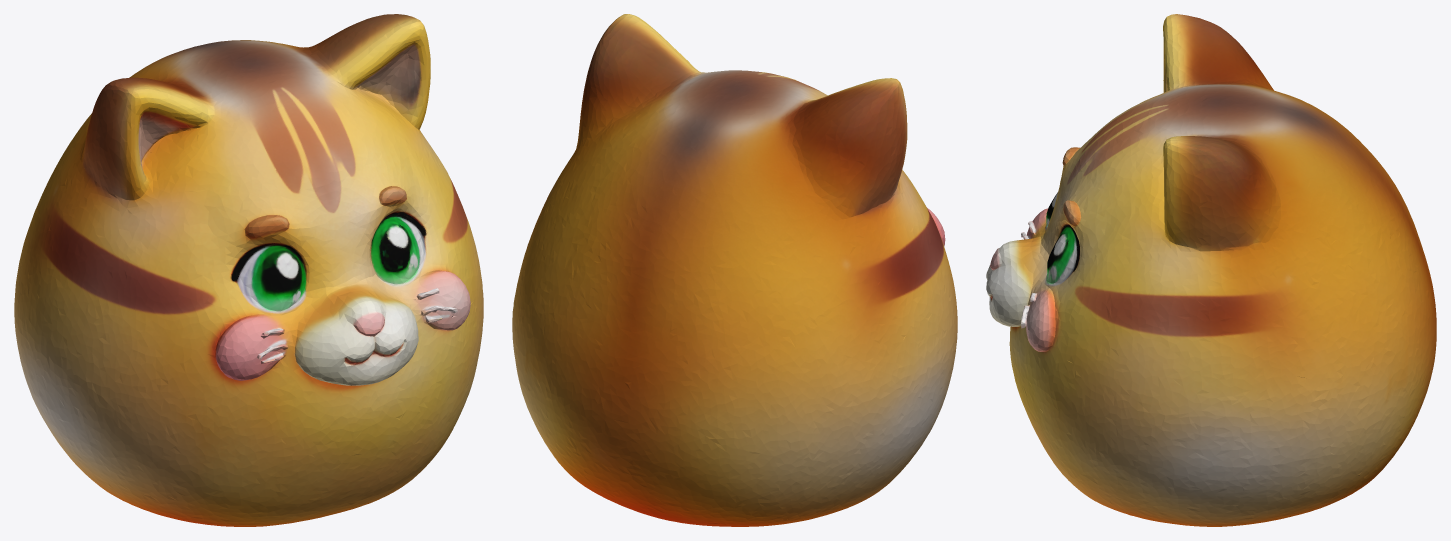
File: char_cheese.glb
The picture shows the model from 3 angles, left to right: view 1: azimuth 30°, elevation 25°; view 2: azimuth 150°, elevation 25°; view 3: azimuth 270°, elevation 25°; orthographic projection. The views are drawn at different scales.
Visible parts, largest first — view 1: world; view 2: world; view 3: world.
Part boxes in pixels (x1,y1,x2,y2): world: [14, 14, 483, 526]; world: [512, 14, 957, 526]; world: [986, 14, 1436, 526].
Size of the model in its own units: 0.9463 by 0.9882 by 0.9983.
Materials: 1 (1 with a texture image).
